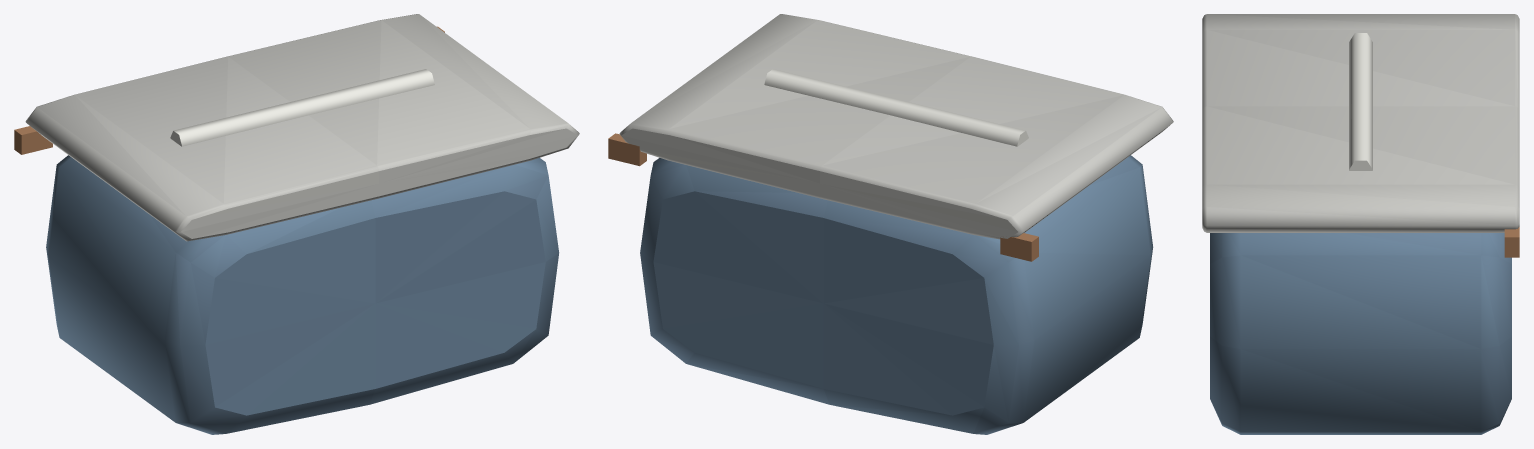
Rendered from camp_cooler_a.glb.
3 views of the same model, side by side, from view 1: azimuth 30°, elevation 25°; view 2: azimuth 150°, elevation 25°; view 3: azimuth 270°, elevation 25° (orthographic). The views are drawn at different scales.
Parts seen in each view (by area): view 1: body; view 2: body; view 3: body.
Boxes of the visible parts, x1,y1,x2,y2 form: body: (14,14,579,434); body: (608,14,1173,434); body: (1202,14,1519,434).
Size of what is drawn, in the model's own units: 0.67 by 0.3939 by 0.42.
